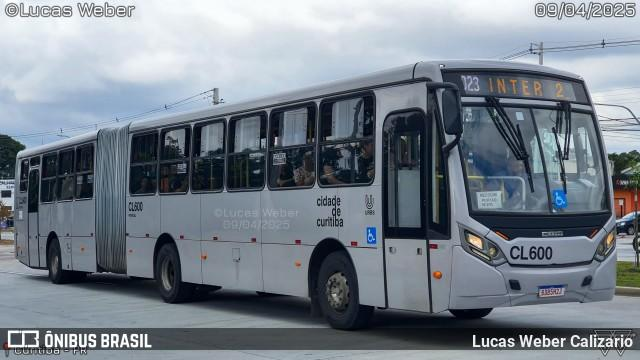INTER2: (482, 72, 567, 101)
